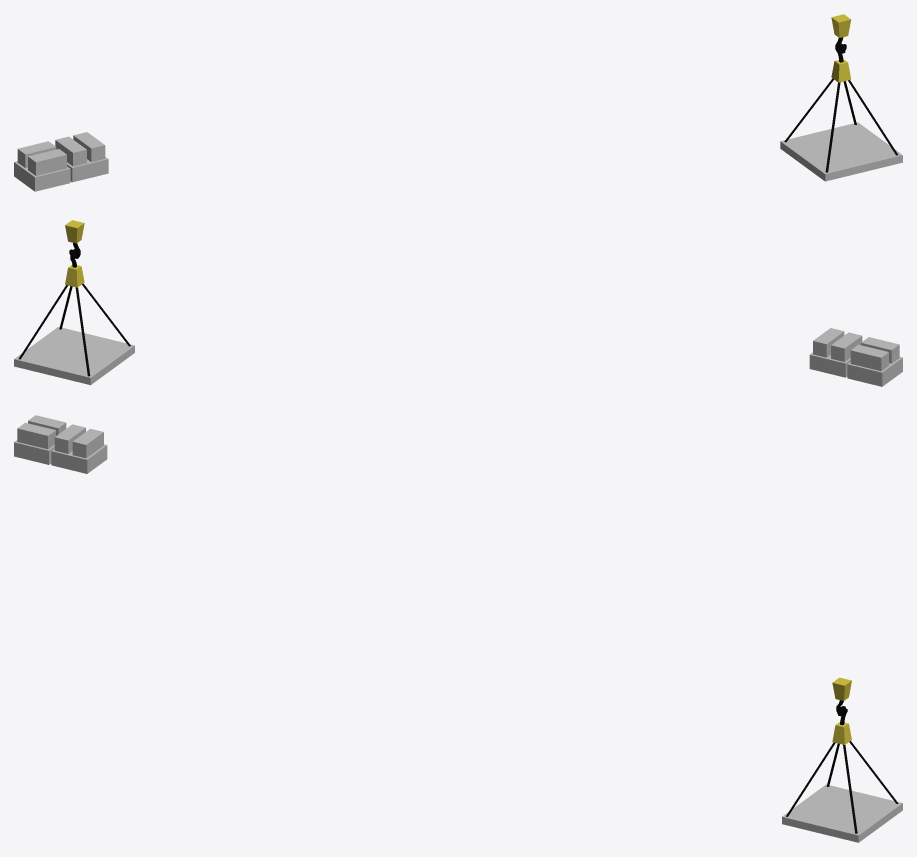
3 renders of one model, top to bottom at view 1: azimuth 30°, elevation 25°; view 2: azimuth 150°, elevation 25°; view 3: azimuth 330°, elevation 25°, orthographic.
Visible parts, largest first — view 1: Cube.002, Cube.003, Cube.005, Cube.001; view 2: Cube.002, Cube.003, Cube.005, Cube.001; view 3: Cube.002, Cube.005, Cube.003, Cube.001.
Boxes of the visible parts, left/top/right/bottom form: Cube.002: left=780, top=122, right=902, bottom=181; Cube.003: left=14, top=141, right=70, bottom=191; Cube.005: left=55, top=132, right=108, bottom=182; Cube.001: left=784, top=14, right=897, bottom=172; Cube.002: left=14, top=327, right=134, bottom=385; Cube.003: left=847, top=337, right=902, bottom=386; Cube.005: left=809, top=328, right=862, bottom=377; Cube.001: left=18, top=220, right=130, bottom=376; Cube.002: left=782, top=784, right=902, bottom=842; Cube.005: left=51, top=424, right=107, bottom=473; Cube.003: left=14, top=415, right=66, bottom=464; Cube.001: left=786, top=677, right=898, bottom=833.
Bounding box in the file's own units: 12553 × 2848 × 1133.
